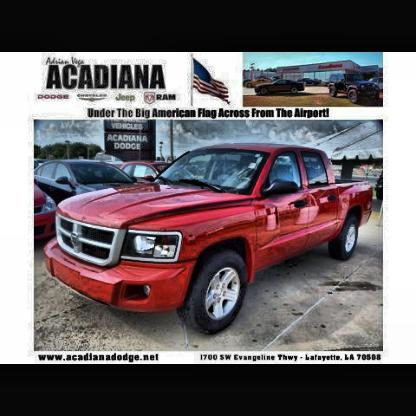Dodge Dakota Crew Cab 2010: (46, 144, 375, 336)
